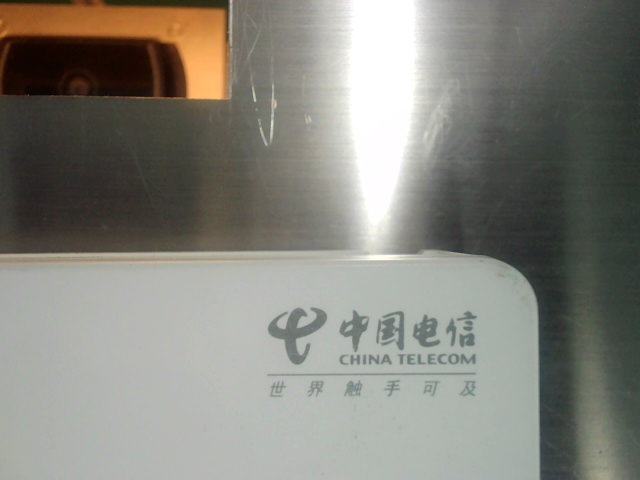AB_ChinaTelecom: (252, 296, 489, 410)
